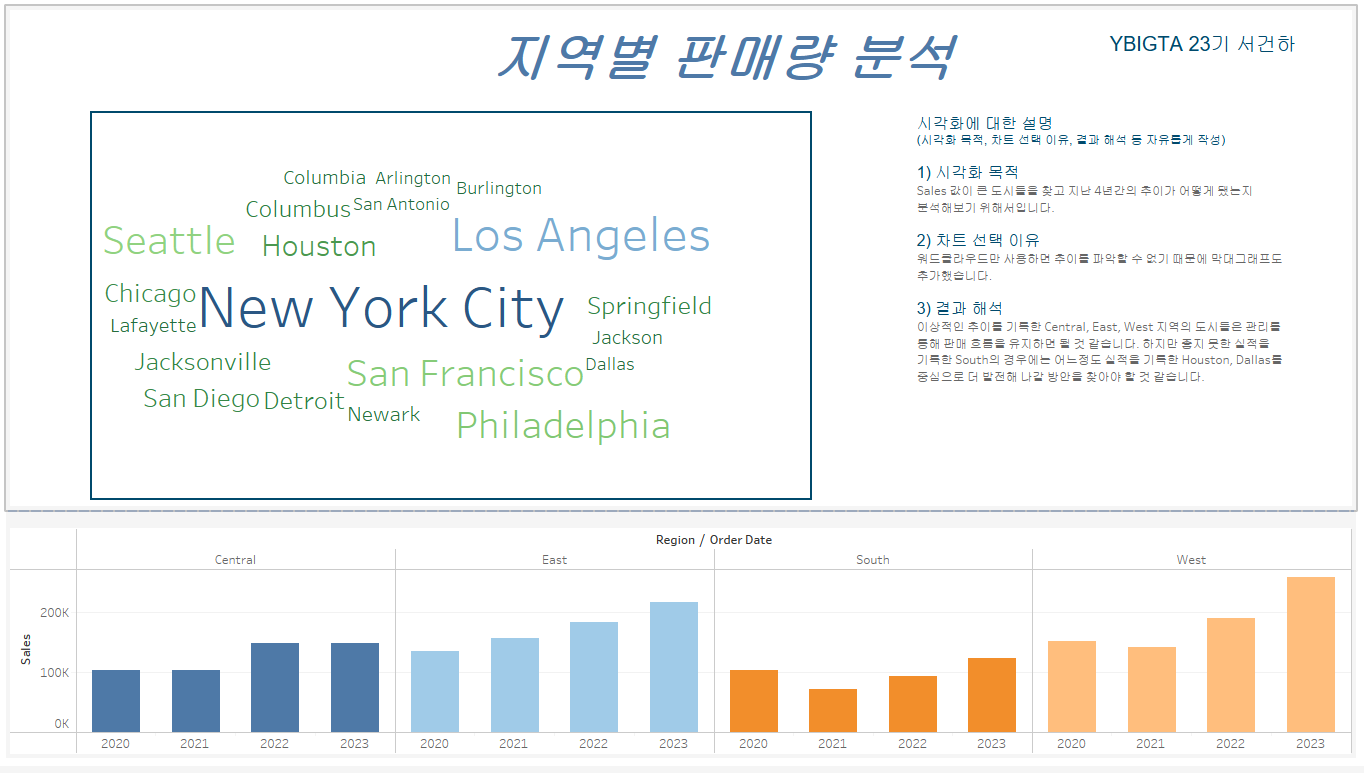

This screenshot's page, from the dashboard's own definition file:
{"tool":"tableau","page":{"name":"대시보드 1","canvas":[1366,768],"ordinal":0},"visuals":[{"type":"blank","box":[8,8,1350,504]},{"type":"text","box":[1109,8,238,76]},{"type":"text","box":[454,29,544,64]},{"type":"worksheet","title":"워드클라우드","mark":"Text","box":[92,113,722,389]},{"type":"text","box":[916,117,381,324]},{"type":"worksheet","title":"막대 차트","mark":"Bar","rows":["Sales"],"cols":["Region","Order Date"],"box":[8,512,1350,248]}]}

Visuals, with their boxes in screenshot pixels (x1, y1, x2, y2), scaled from the page's 1366x768 canvas onto the 1364x773 screenshot:
blank: l=8, t=8, r=1356, b=515
text: l=1107, t=8, r=1345, b=85
text: l=453, t=29, r=997, b=94
"워드클라우드" worksheet (Text marks): l=92, t=114, r=813, b=505
text: l=915, t=118, r=1295, b=444
"막대 차트" worksheet (Bar marks): l=8, t=515, r=1356, b=765
